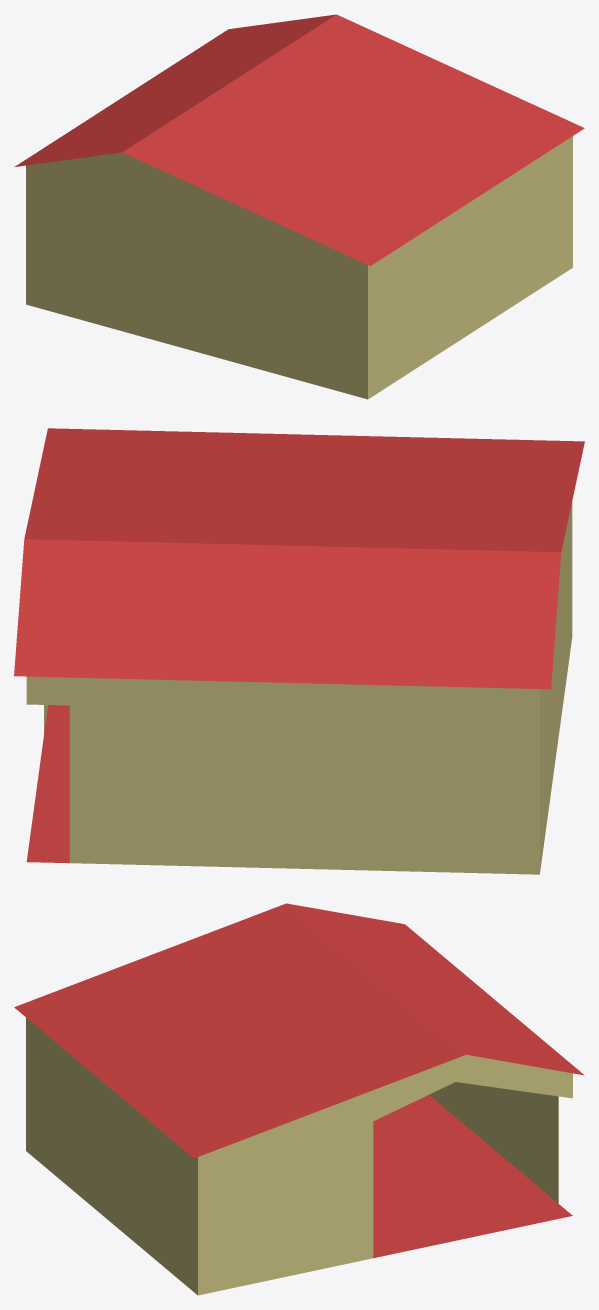
The picture shows the model from 3 angles, top to bottom: view 1: azimuth 30°, elevation 25°; view 2: azimuth 150°, elevation 25°; view 3: azimuth 270°, elevation 25°; orthographic projection. The views are drawn at different scales.
Size of the model in its own units: 31.08 by 32 by 11.63.
